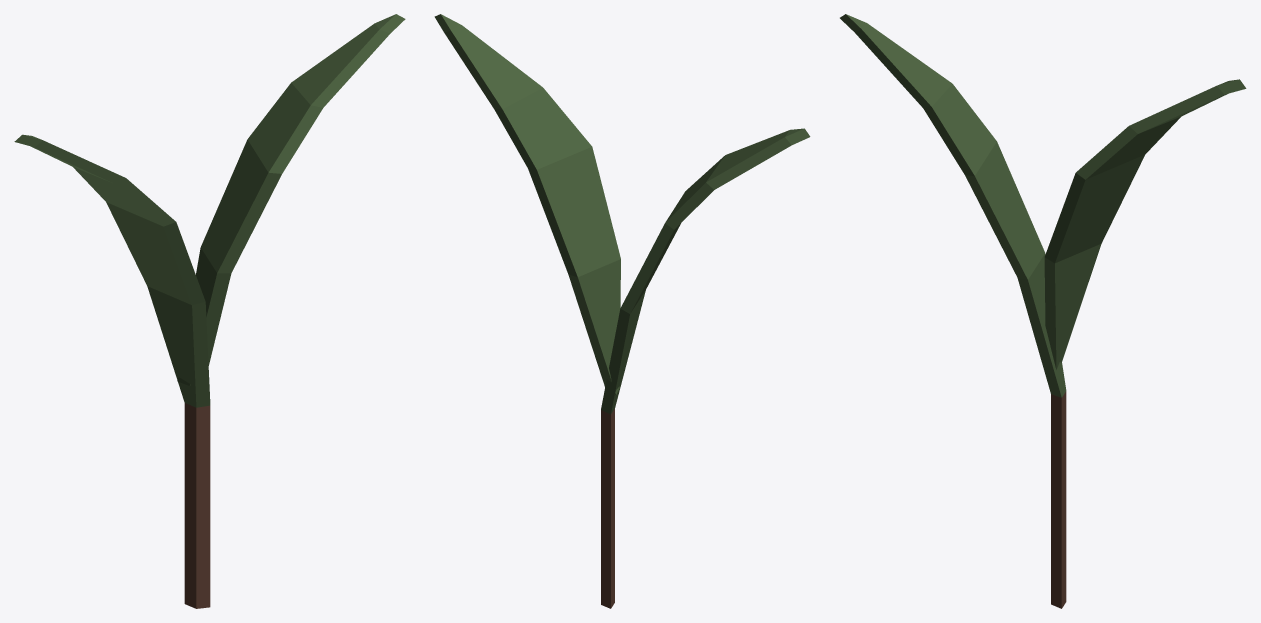
The model's file is bushberries-1-9678f17545.glb.
3 renders of one model, left to right at view 1: azimuth 30°, elevation 25°; view 2: azimuth 150°, elevation 25°; view 3: azimuth 330°, elevation 25°, orthographic. The views are drawn at different scales.
Visible parts, largest first — view 1: BushBerries_1.obj; view 2: BushBerries_1.obj; view 3: BushBerries_1.obj.
Part boxes in pixels (x1=…): BushBerries_1.obj: x1=14, y1=14, x2=405, y2=608; BushBerries_1.obj: x1=434, y1=14, x2=810, y2=608; BushBerries_1.obj: x1=840, y1=14, x2=1246, y2=608.
Bounding box in the file's own units: 0.2595 × 0.3529 × 0.0501.
